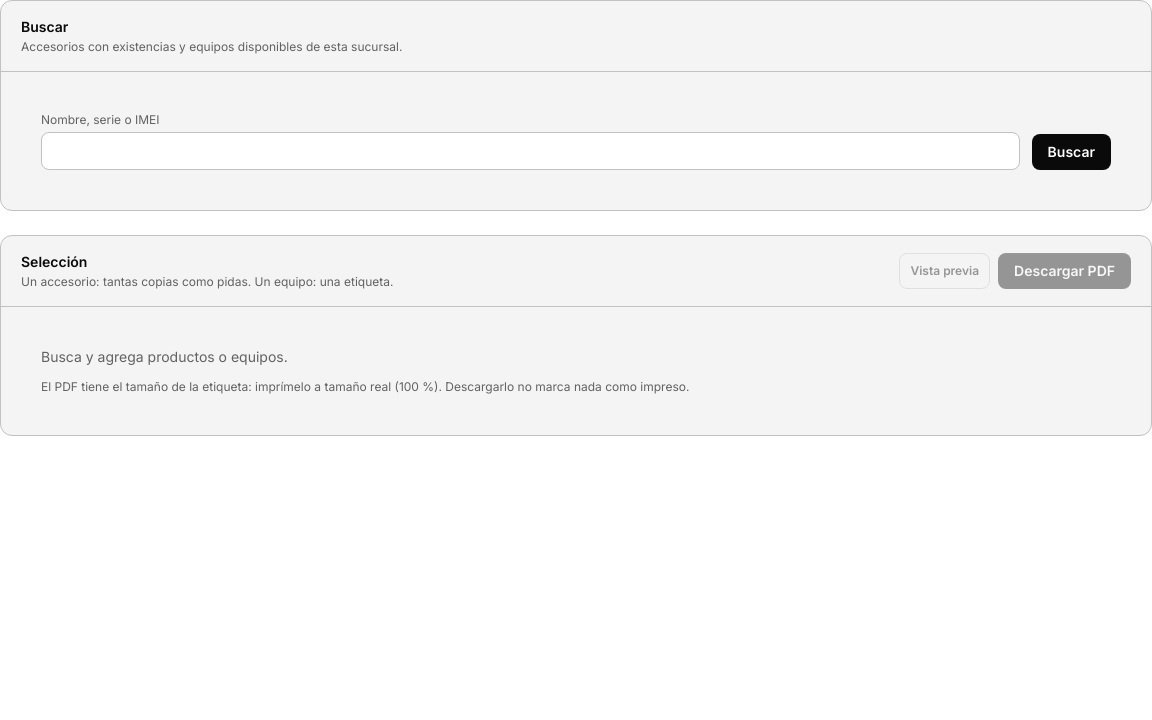
Etiquetas y códigos de barras › descarga el PDF y dice cuántas etiquetas salieron, sin marcar nada como impreso
The width and height of the screenshot is (1152, 720).
Click the button "Buscar" at (1071, 152), box [1032,134,1111,170]
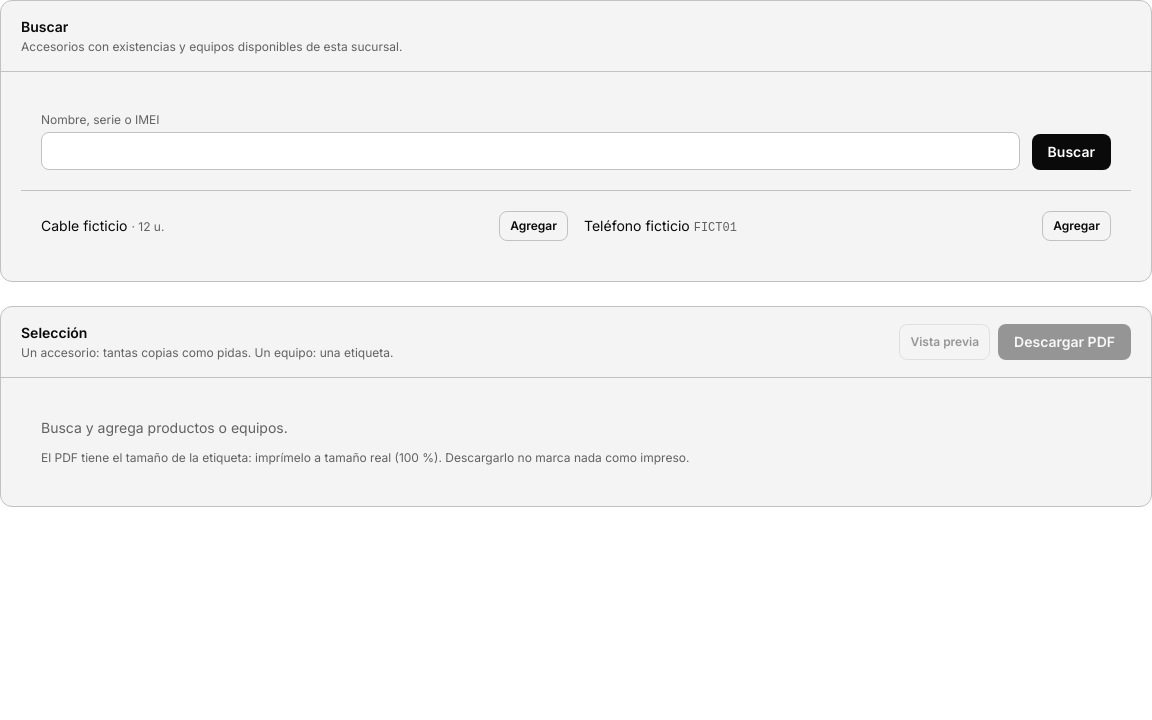
Click the button with aria-label "Agregar Cable ficticio" at (534, 226), box [499,211,568,241]
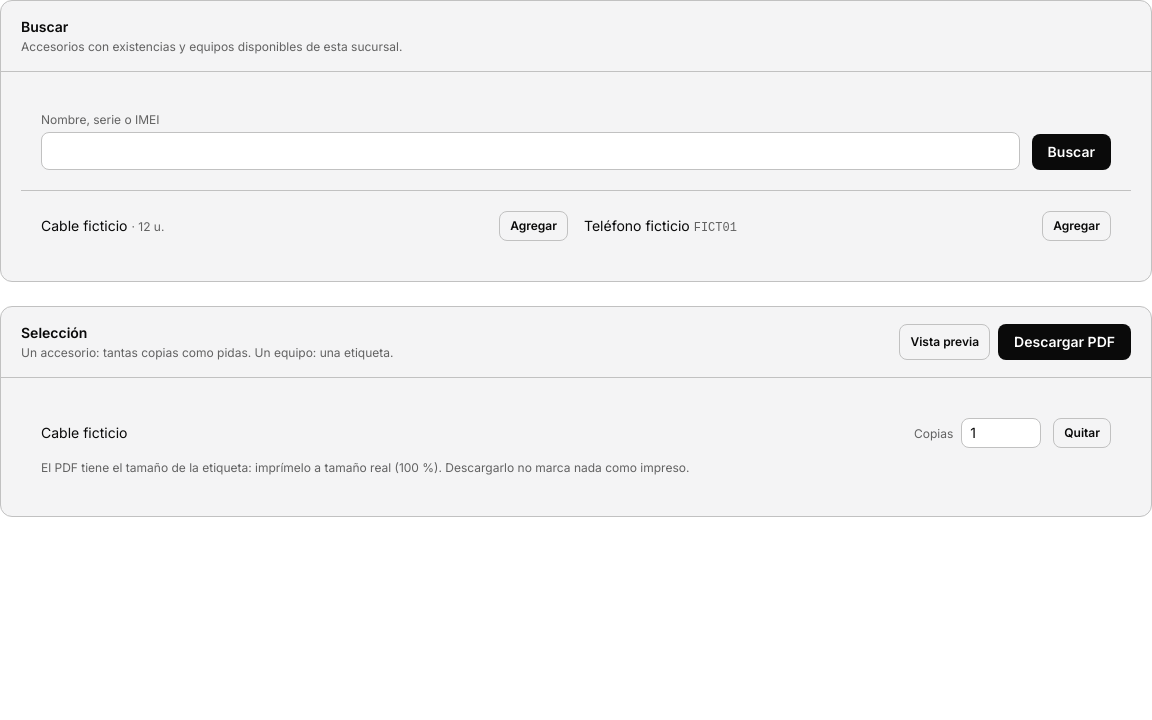
Click the button with aria-label "Agregar equipo FICT01" at (1077, 226), box [1042,211,1111,241]
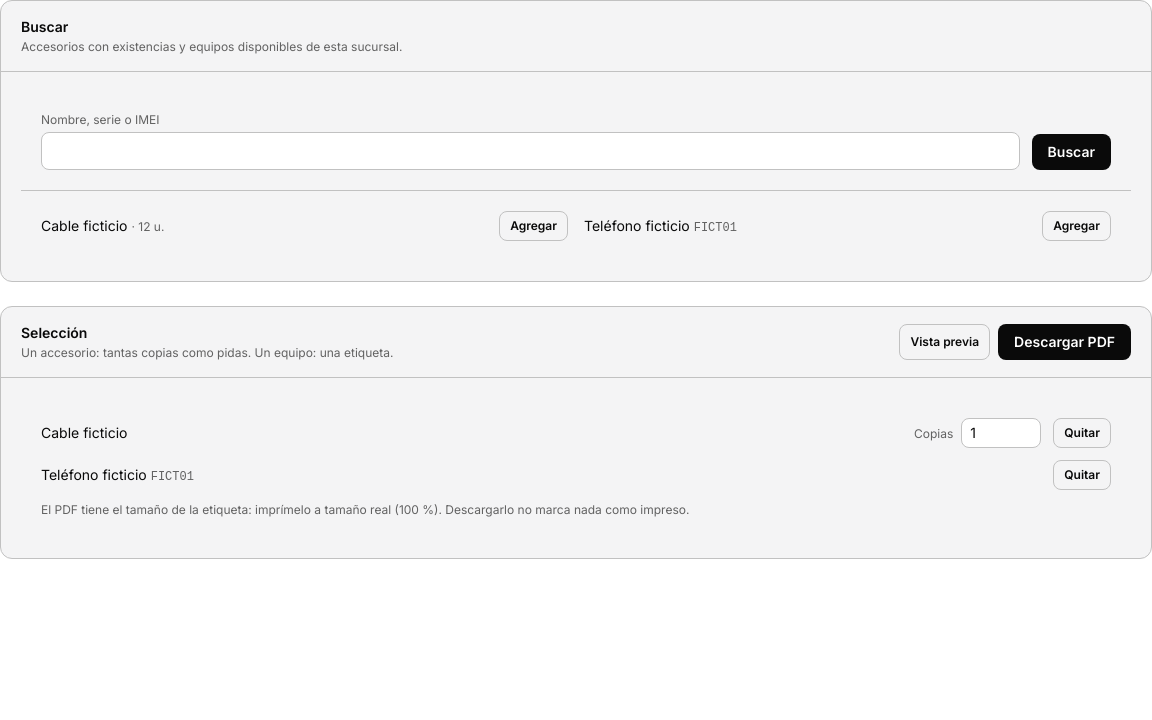
Replace the text in the number field named "Copias de Cable ficticio" with "3" at (1001, 433), box [961,418,1041,448]
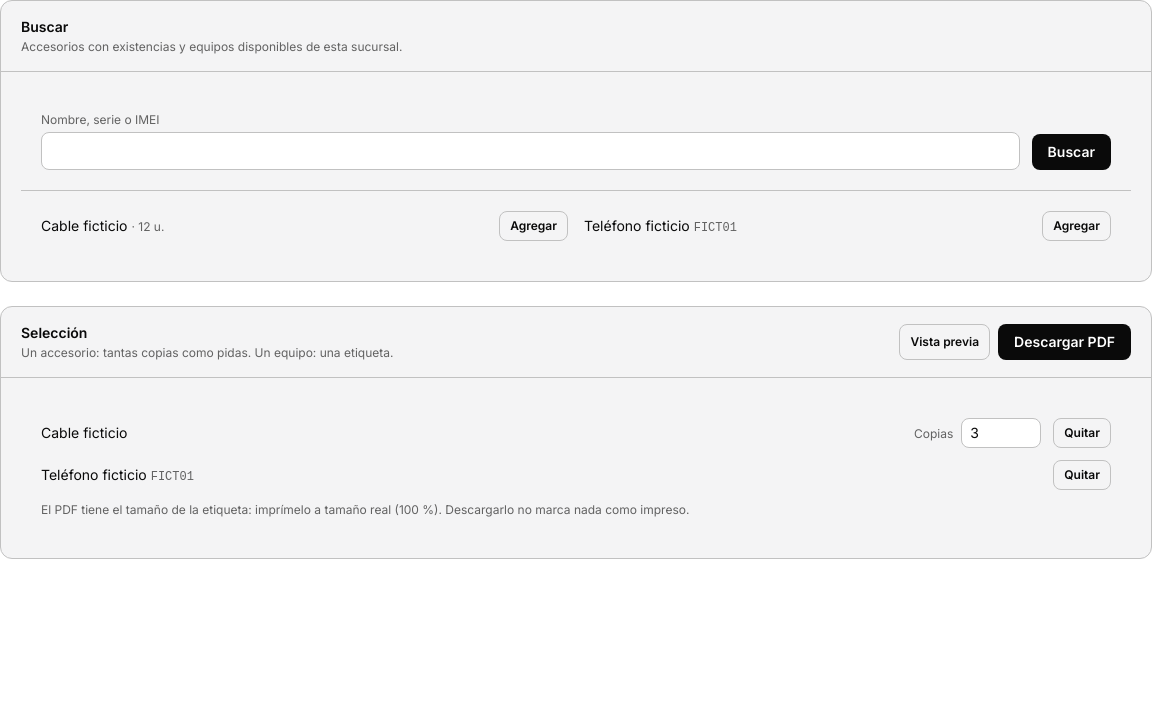
Click the button "Descargar PDF" at (1065, 342), box [998,324,1131,360]
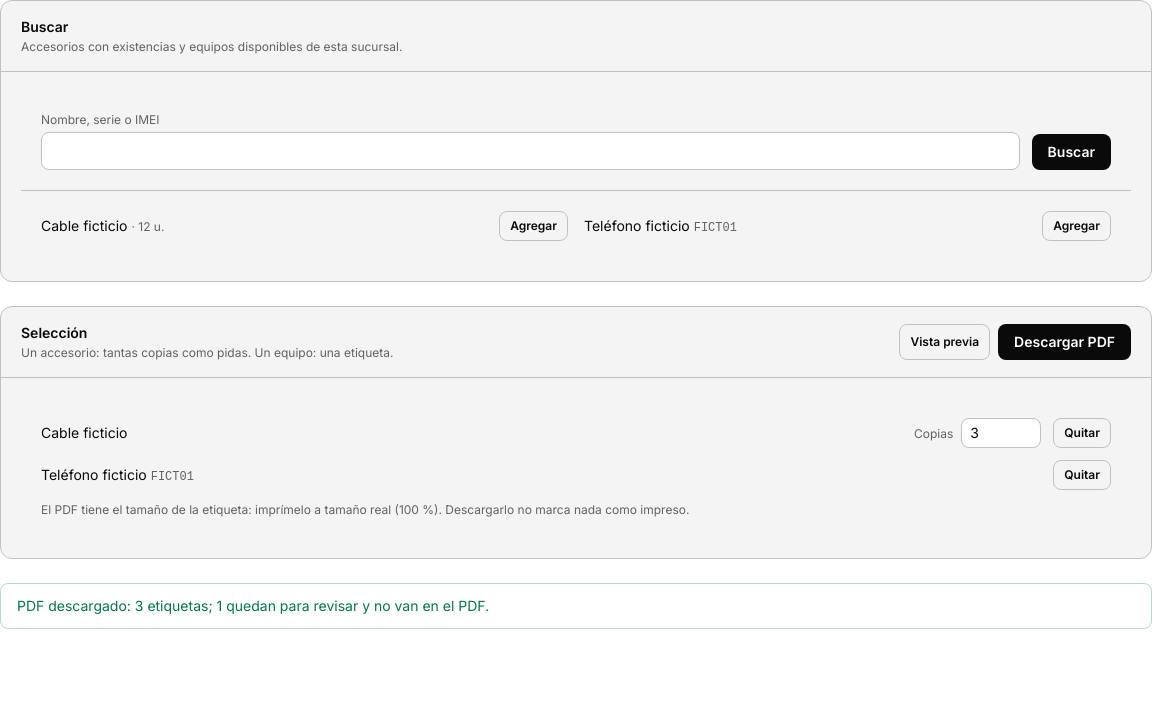
Expected: the text "Descargarlo no marca nada" is shown, [41,502,689,517]
Expected: the message shows "3 etiquetas; 1 quedan para revisar", [17,597,489,614]
